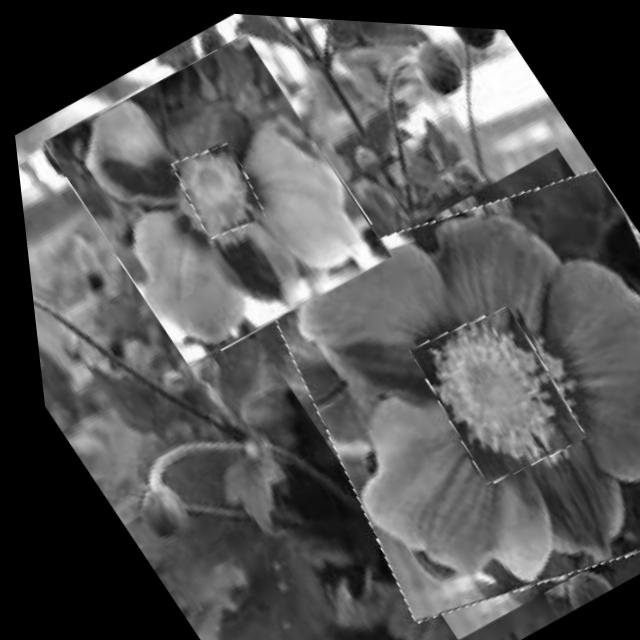Flower: (200, 103, 640, 640), (28, 17, 401, 376), (392, 291, 587, 487), (160, 132, 271, 243)
